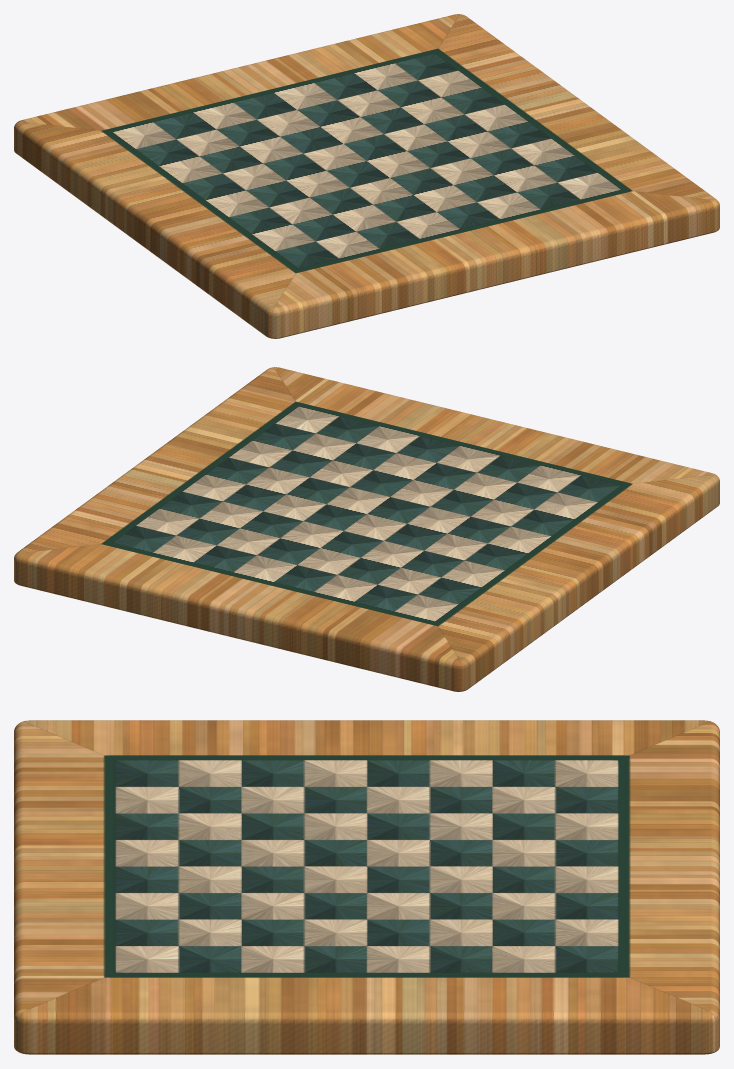
Rendered from board.glb.
The picture shows the model from 3 angles, top to bottom: view 1: azimuth 30°, elevation 25°; view 2: azimuth 150°, elevation 25°; view 3: azimuth 270°, elevation 25°; orthographic projection. The views are drawn at different scales.
Visible parts, largest first — view 1: Chessboard; view 2: Chessboard; view 3: Chessboard.
Part boxes in pixels (box(x1,y1,x2,y2)): Chessboard: box(14, 14, 719, 338); Chessboard: box(14, 367, 719, 691); Chessboard: box(14, 720, 719, 1054).
Bounding box in the file's own units: 11.31 × 0.7044 × 11.31.
Materials: 3 (3 with a texture image).
